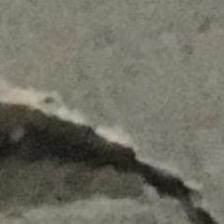Crack: (10, 34, 223, 224)
